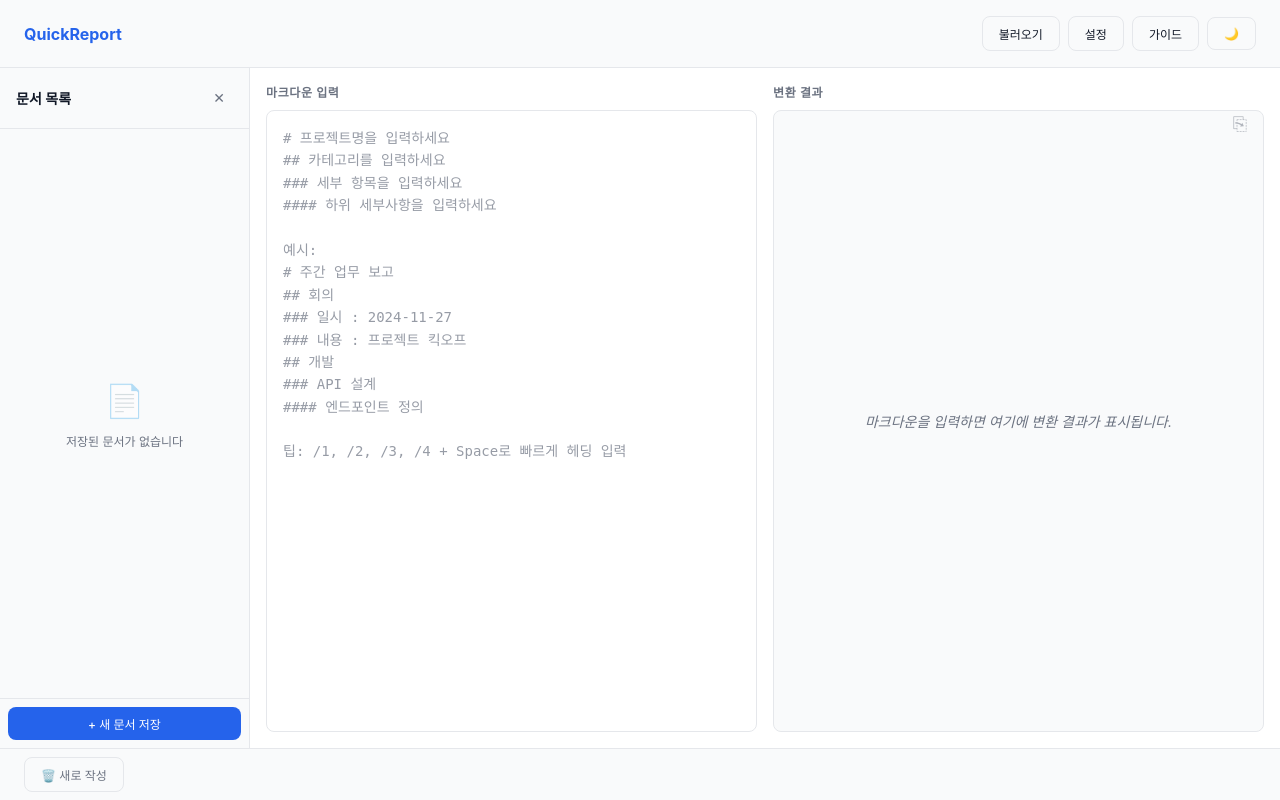
Test: App 통합 테스트 › 기본 변환 플로우 › 마크다운 입력 시 변환 결과가 표시된다
Replace the text in the text box with test id "editor" with "# 테스트 제목": (512, 421) [266, 110, 757, 732]
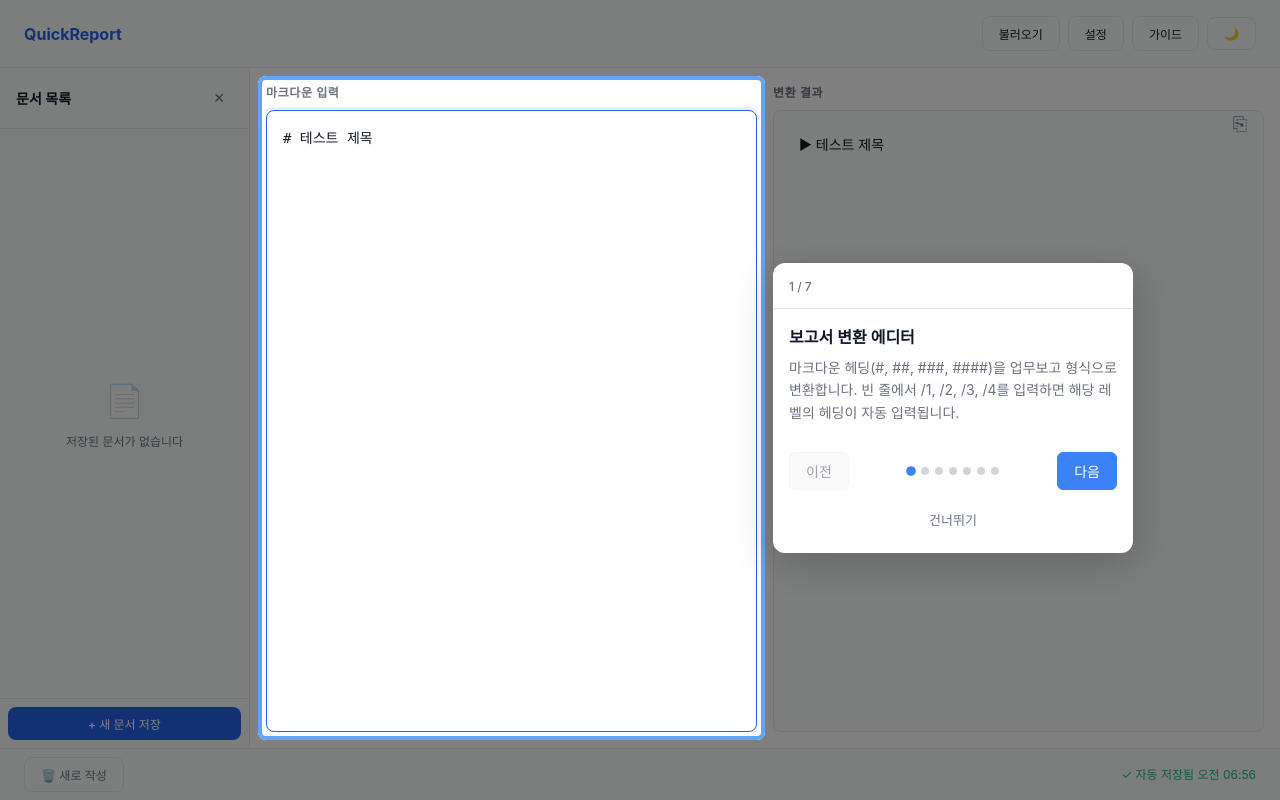
Check: the element with test id "preview" reads "▶ 테스트 제목", box [799, 136, 884, 153]
